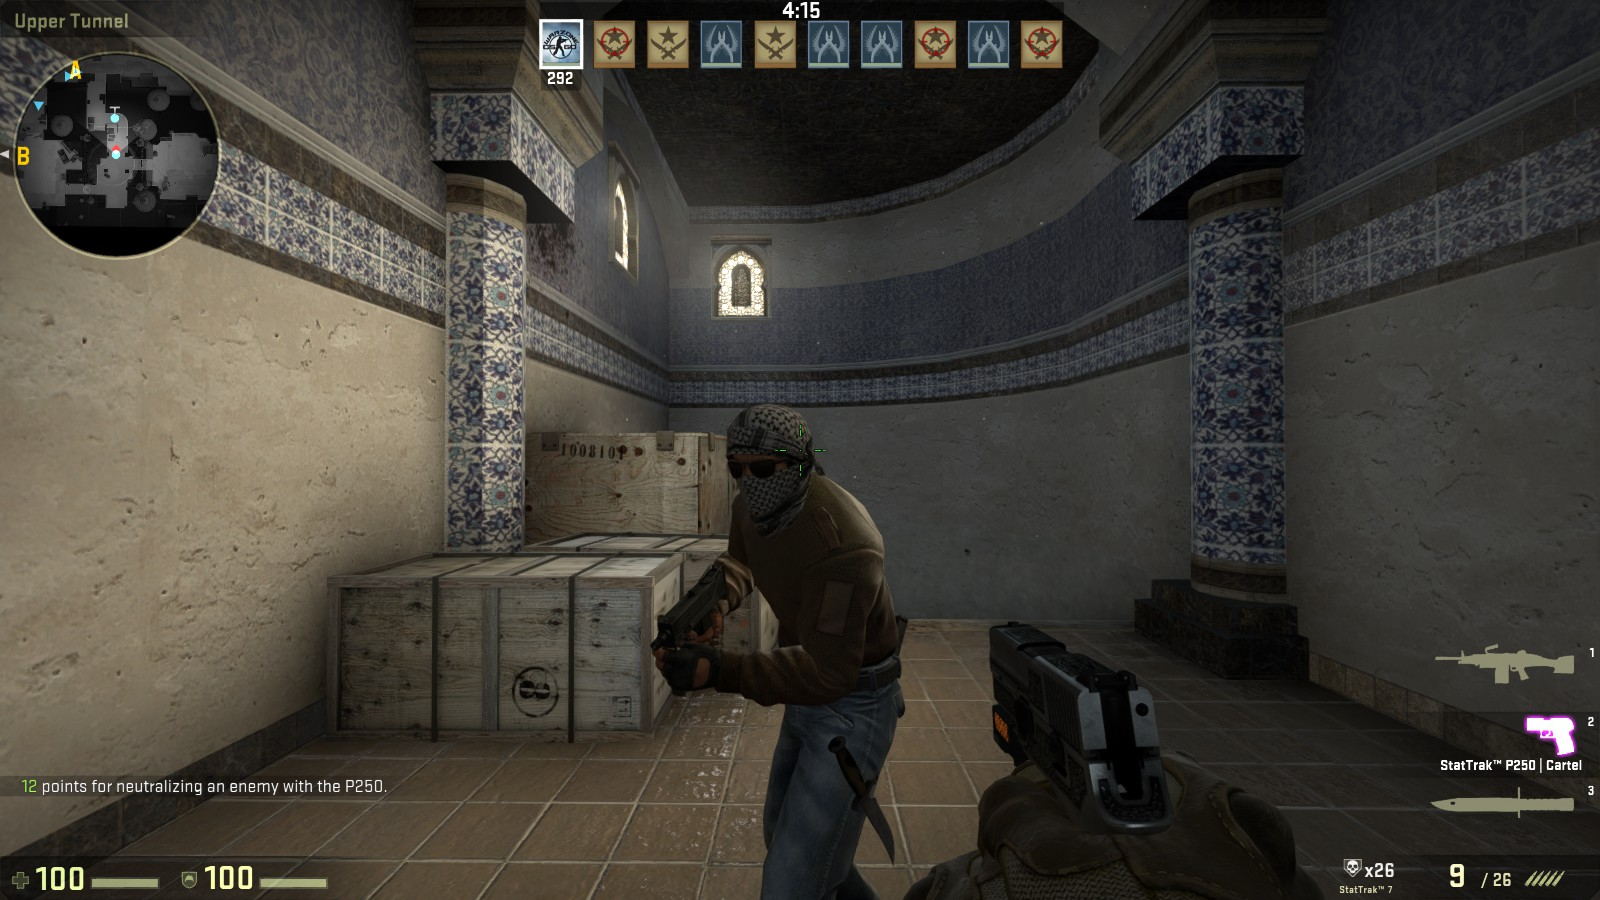t: (686, 392, 929, 900)
th: (725, 397, 819, 534)
